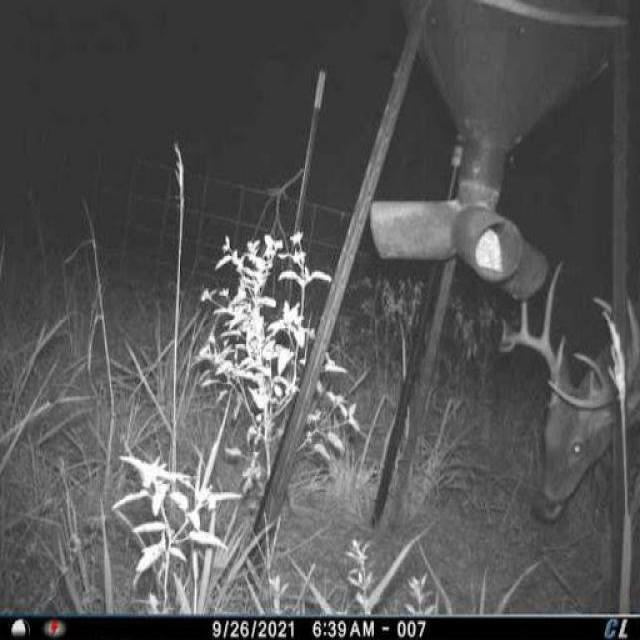deer: (491, 244, 640, 623)
